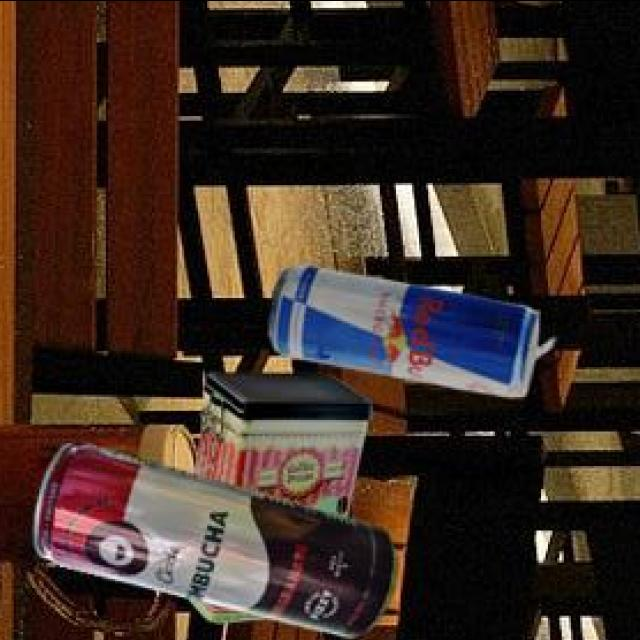logam: (38, 441, 399, 632), (192, 369, 374, 618), (273, 261, 558, 393)
